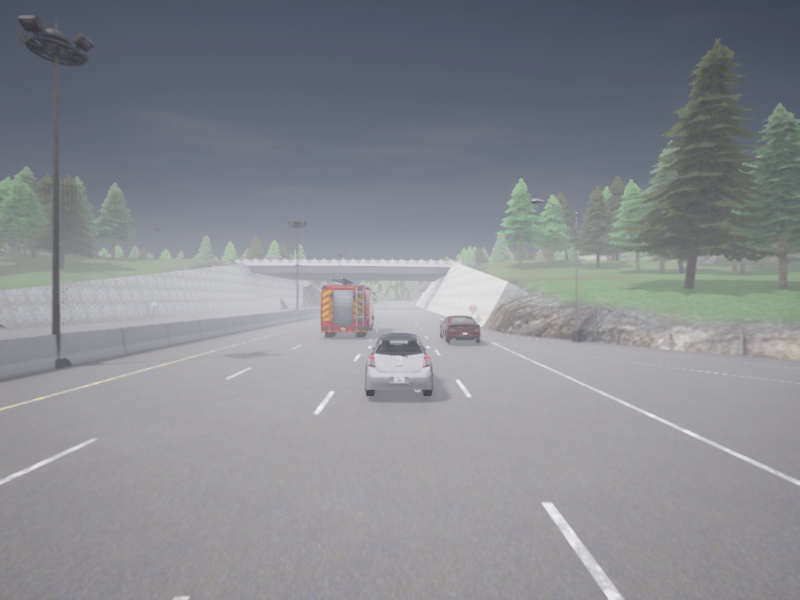vehicle: (365, 333, 432, 396), (320, 277, 376, 335), (439, 315, 479, 342)
